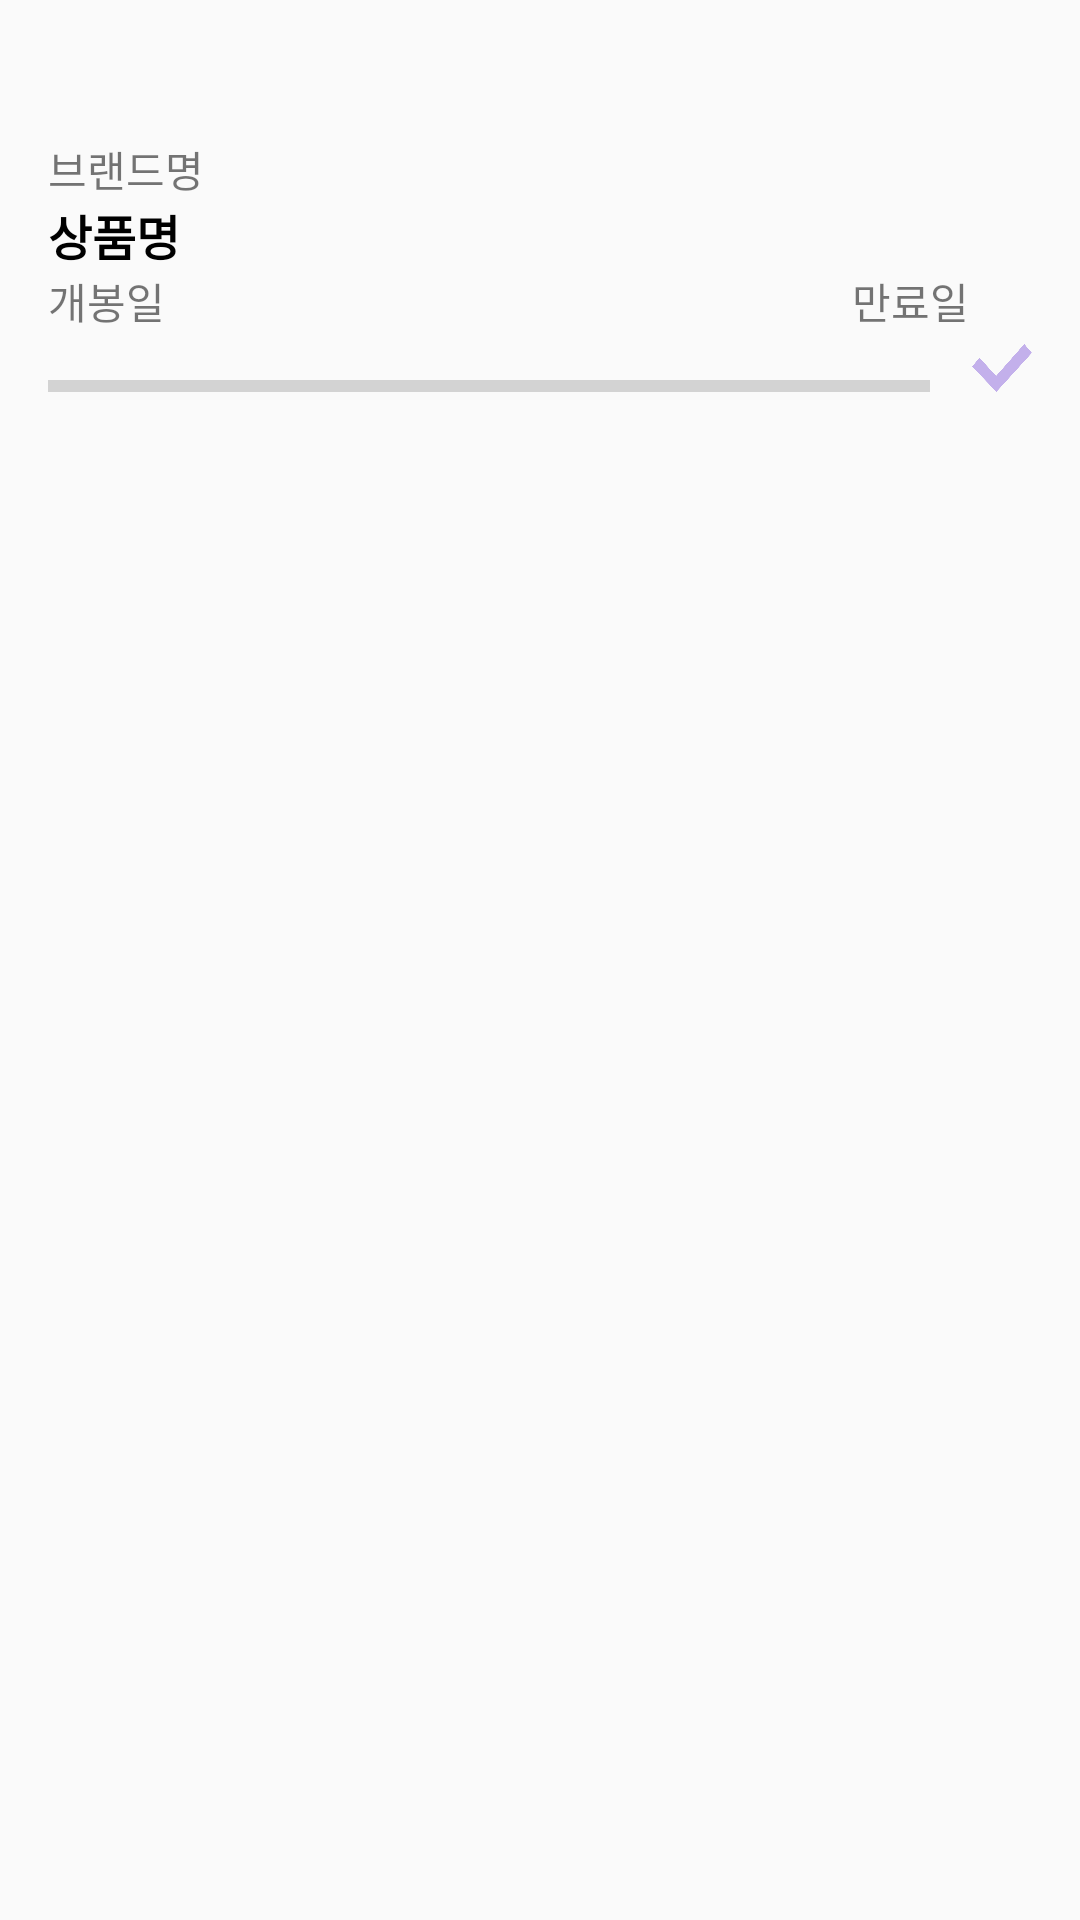

Where to tap for icons on this 1080×1920 app screen, as (x=x, y=y):
check: (x=1002, y=368)
